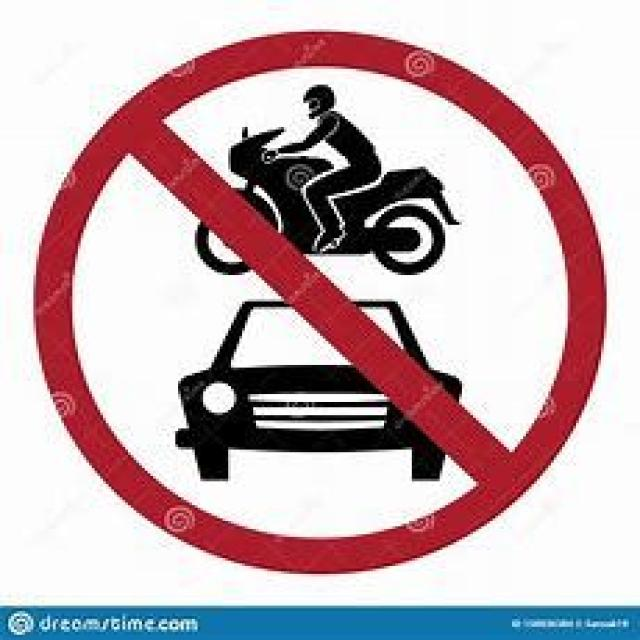ALL_MOTOR_VEHICLE_PROHIBITED: (20, 15, 614, 592)
